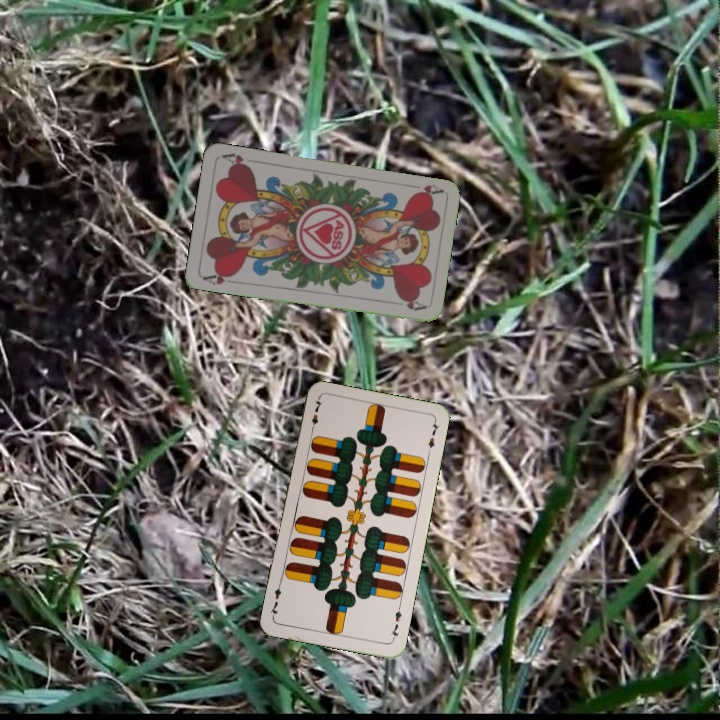E7: (307, 395, 325, 436), (387, 603, 404, 643)
HA: (404, 180, 445, 199), (199, 268, 239, 287)
